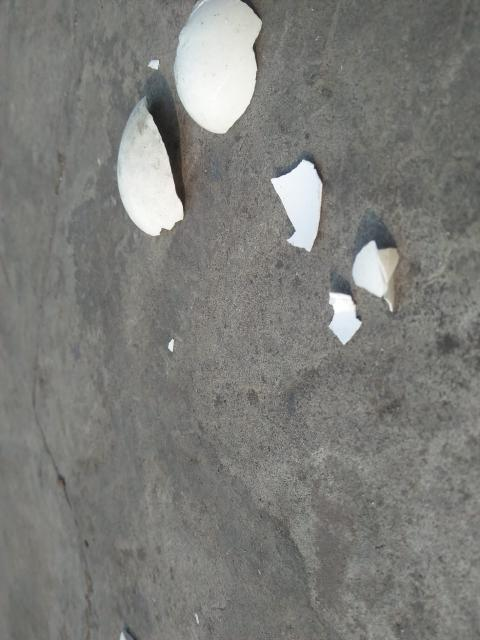Roto: (172, 0, 262, 134), (116, 95, 184, 237), (270, 158, 323, 252), (351, 239, 400, 312), (327, 291, 362, 345)
